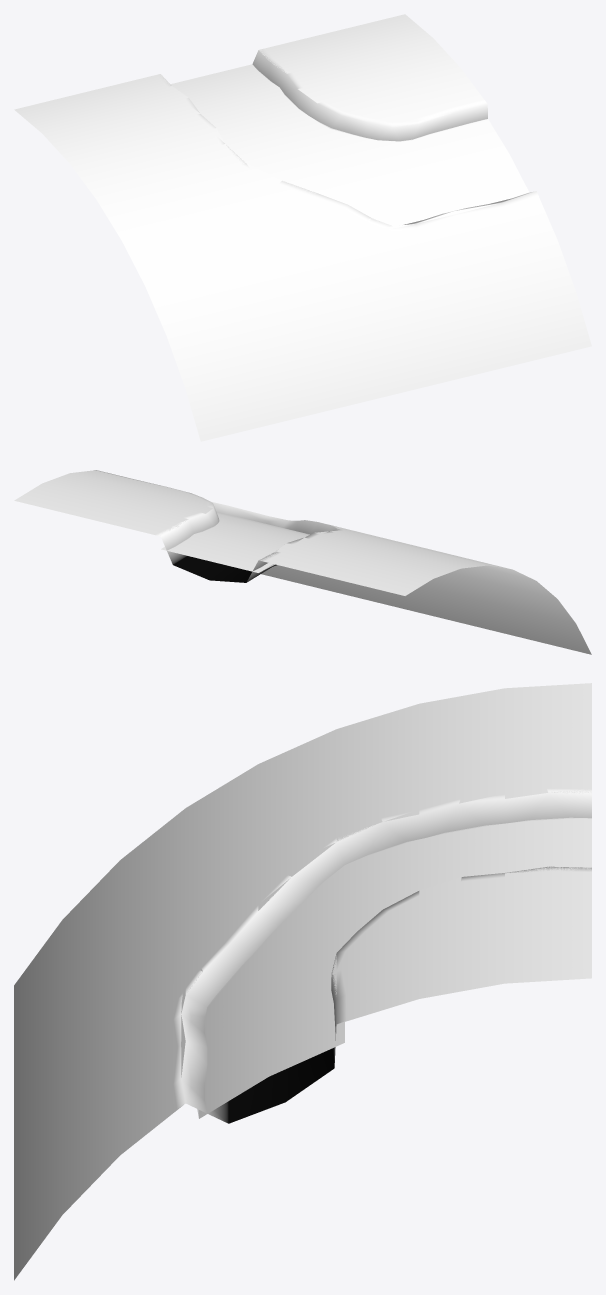
Rendered from grd_Rse_0.dae.
3 renders of one model, top to bottom at view 1: azimuth 30°, elevation 25°; view 2: azimuth 150°, elevation 25°; view 3: azimuth 270°, elevation 25°, orthographic. The views are drawn at different scales.
Parts seen in each view (by area): view 1: grd_Rse_0; view 2: grd_Rse_0; view 3: grd_Rse_0.
Part boxes in pixels (x1,y1,x2,y2): grd_Rse_0: (14, 14, 591, 441); grd_Rse_0: (14, 470, 591, 654); grd_Rse_0: (14, 683, 591, 1280).
Size of the model in its own units: 512 by 244 by 423.
Materials: 4 (1 with a texture image).
